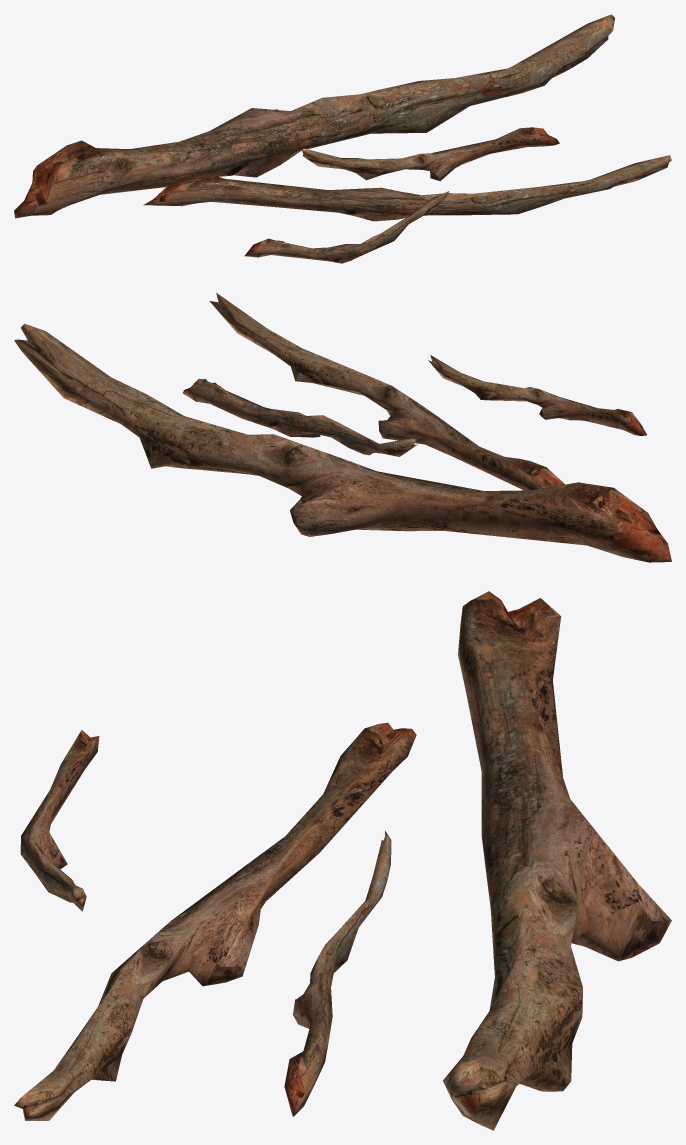
Rendered from BranchPile.fbx.
3 renders of one model, top to bottom at view 1: azimuth 30°, elevation 25°; view 2: azimuth 150°, elevation 25°; view 3: azimuth 270°, elevation 25°, orthographic. The views are drawn at different scales.
Parts seen in each view (by area): view 1: BranchPile; view 2: BranchPile; view 3: BranchPile.
Boxes of the visible parts, <box> form: BranchPile: <box>14,14,671,263</box>; BranchPile: <box>14,292,671,562</box>; BranchPile: <box>14,591,671,1130</box>.
Size of the model in its own units: 10.59 by 1.55 by 5.24.
